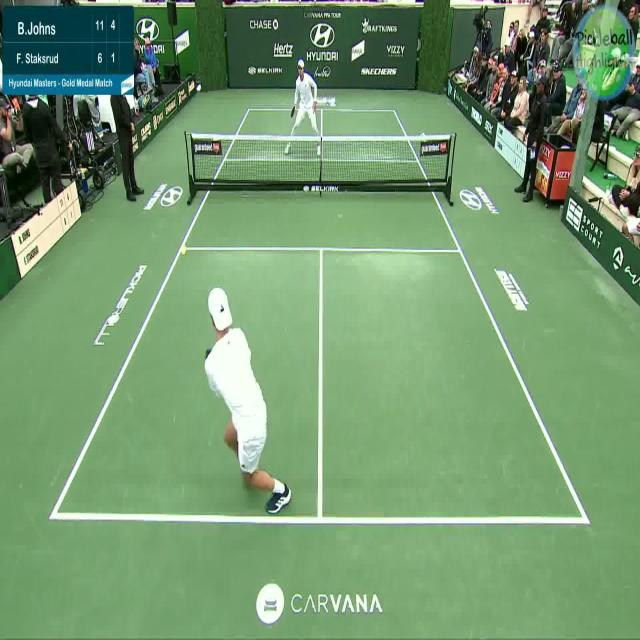Court: (50, 107, 589, 524)
ball: (176, 241, 192, 260)
